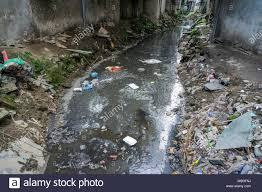garbage: (77, 57, 168, 146), (186, 78, 262, 172)
